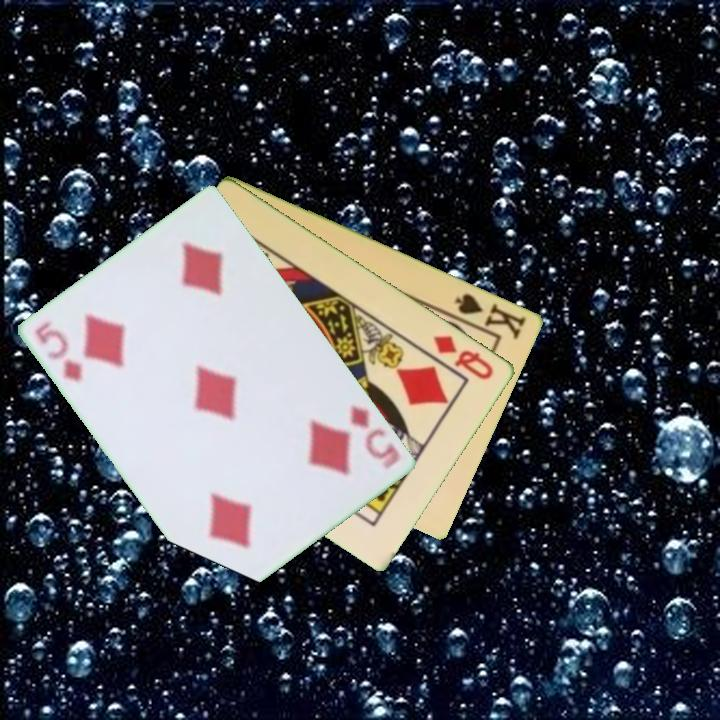5d: (347, 401, 404, 472), (31, 318, 87, 385)
Ks: (452, 289, 530, 342)
Qd: (430, 331, 497, 383)
